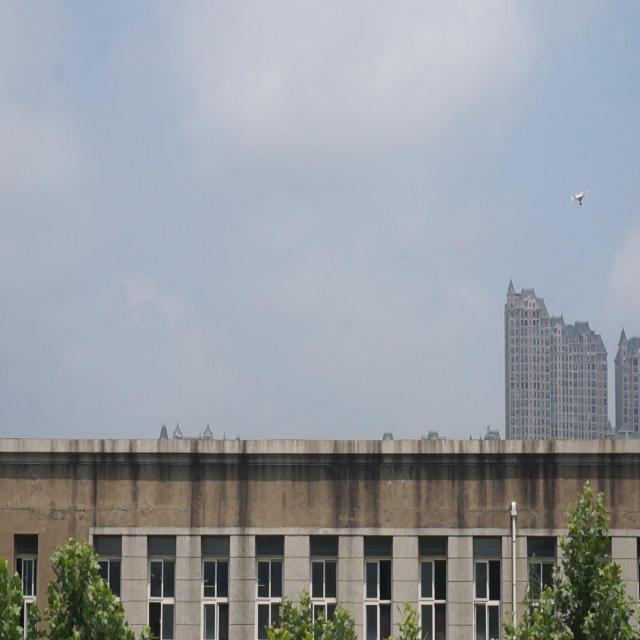UAV: (570, 190, 590, 206)
